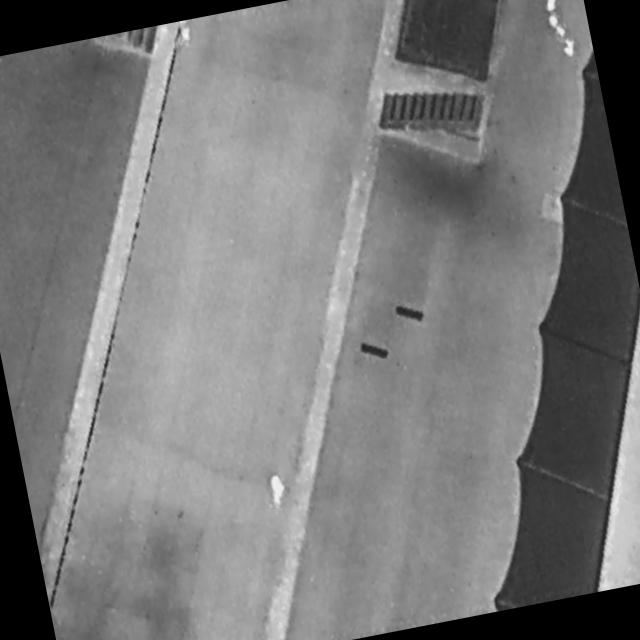person: (267, 471, 290, 511), (176, 20, 199, 49)
